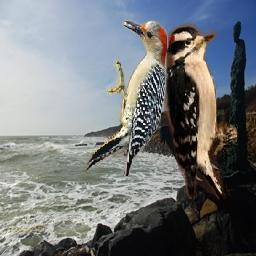Woodpecker: (82, 14, 179, 177), (164, 21, 238, 200)
